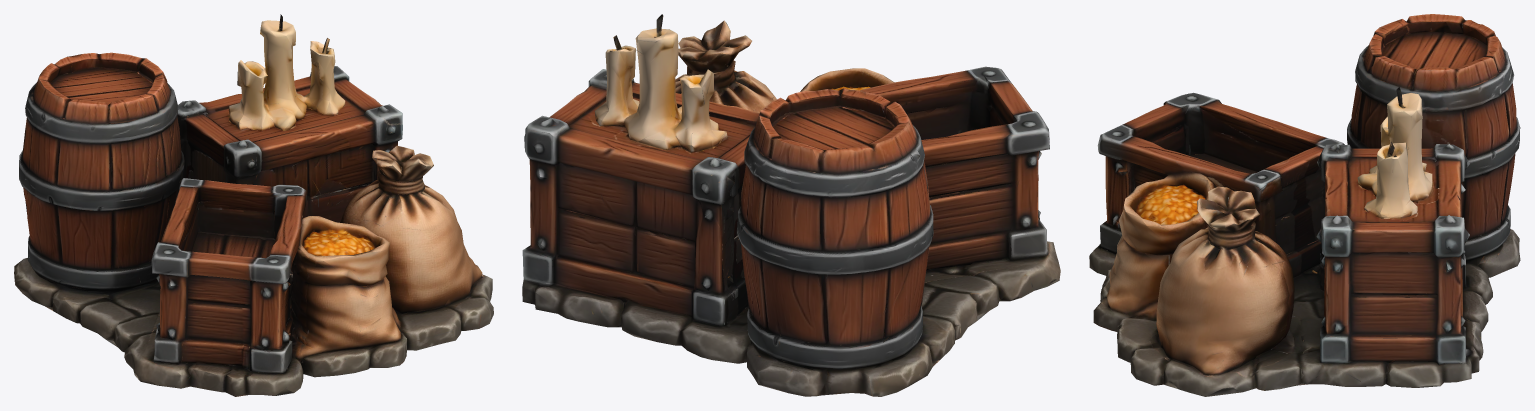
3 renders of one model, left to right at view 1: azimuth 30°, elevation 25°; view 2: azimuth 150°, elevation 25°; view 3: azimuth 270°, elevation 25°, orthographic. The views are drawn at different scales.
Parts seen in each view (by area): view 1: Storage equipment; view 2: Storage equipment; view 3: Storage equipment.
Boxes of the visible parts, box(x1,y1,x2,y2) form: Storage equipment: box(14, 14, 493, 396); Storage equipment: box(522, 14, 1060, 396); Storage equipment: box(1089, 14, 1520, 396).
Size of the model in its own units: 1.91 by 1.21 by 1.89.
1 material, 1 textured.
